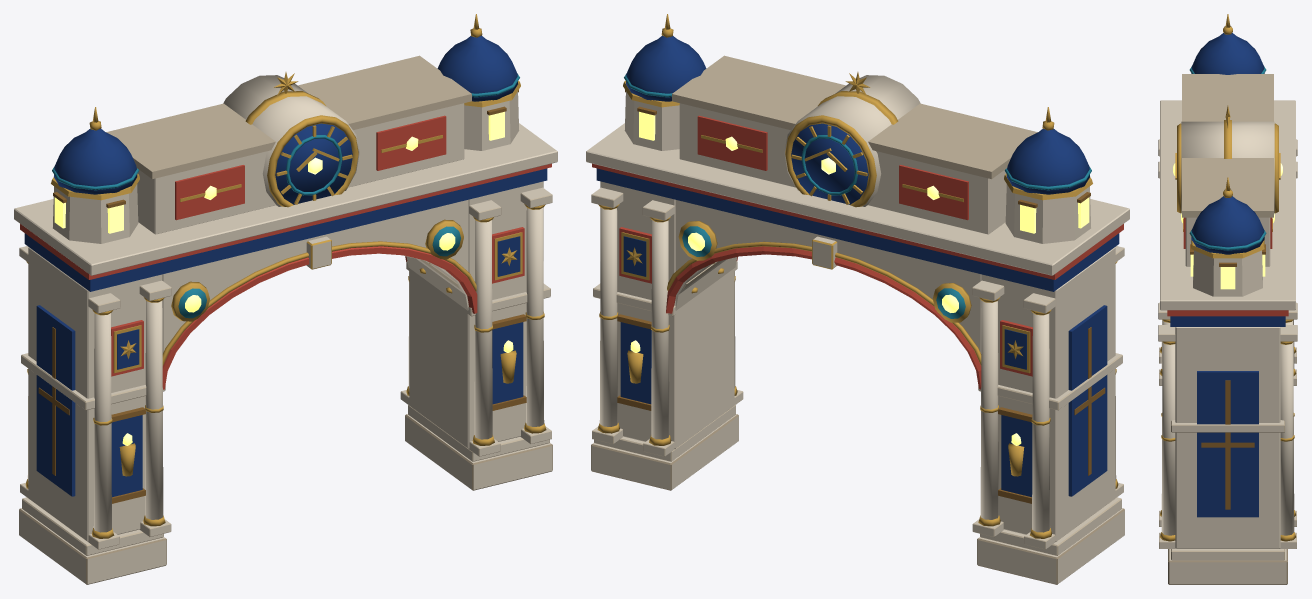
Rendered from landmark_memory_arch.glb.
3 views of the same model, side by side, from view 1: azimuth 30°, elevation 25°; view 2: azimuth 150°, elevation 25°; view 3: azimuth 270°, elevation 25° (orthographic). The views are drawn at different scales.
Parts seen in each view (by area): view 1: landmark_memory_arch; view 2: landmark_memory_arch; view 3: landmark_memory_arch.
Boxes of the visible parts, x1,y1,x2,y2 form: landmark_memory_arch: (14,14,557,584); landmark_memory_arch: (586,14,1129,584); landmark_memory_arch: (1158,14,1297,584).
Size of the model in its own units: 16 by 14.5 by 4.69.
